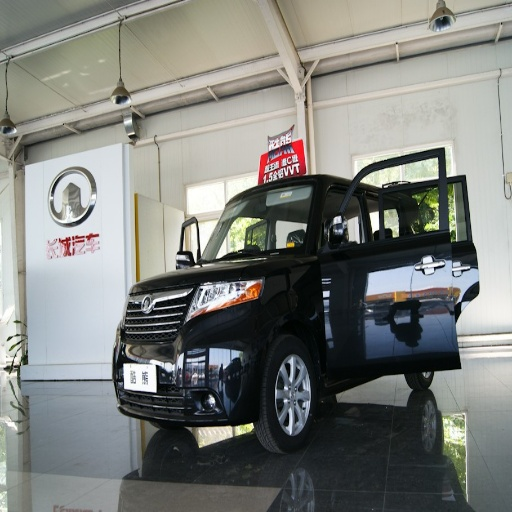front_bumper: (116, 285, 265, 424)
tailgate: (15, 129, 116, 186)
trunk: (403, 250, 460, 297)
